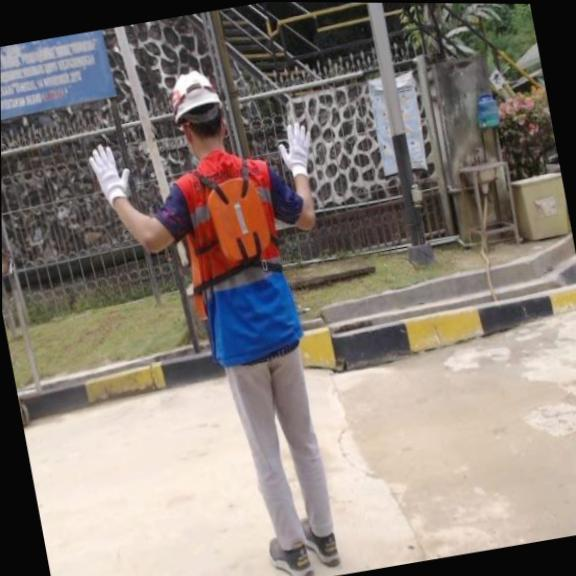safety_vest: (195, 164, 282, 278)
